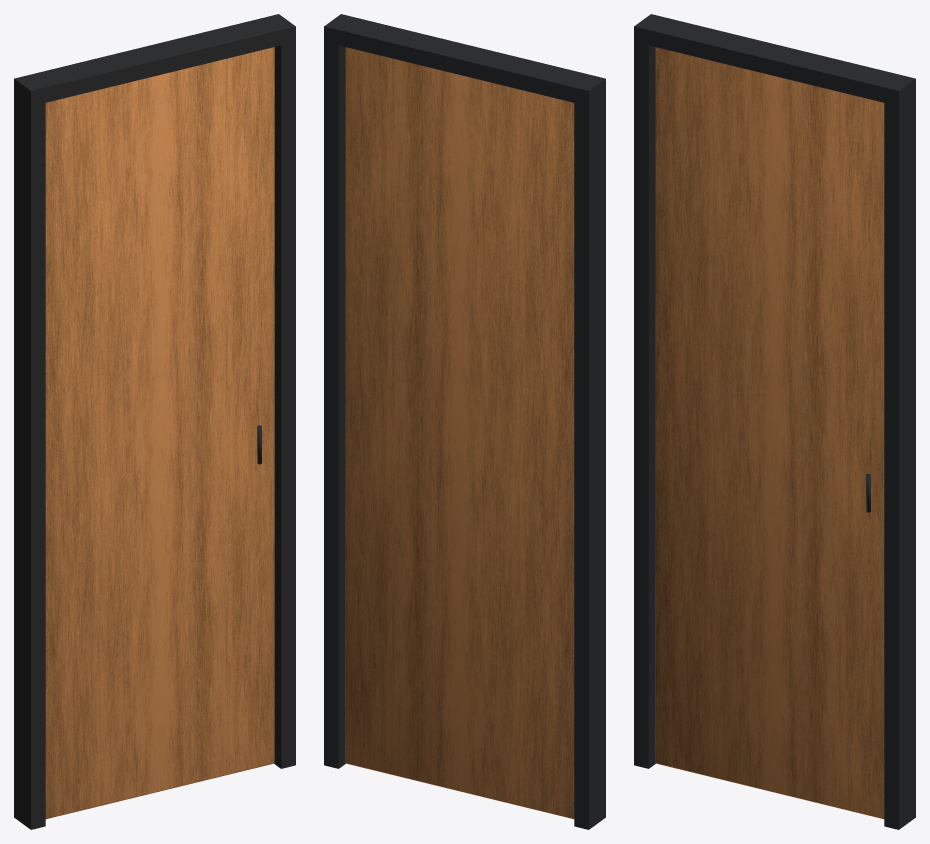
Rendered from architecture.swing-door-solid.glb.
The picture shows the model from 3 angles, left to right: view 1: azimuth 30°, elevation 25°; view 2: azimuth 150°, elevation 25°; view 3: azimuth 330°, elevation 25°; orthographic projection.
Visible parts, largest first — view 1: architecture.swing-door-solid.001; view 2: architecture.swing-door-solid.001; view 3: architecture.swing-door-solid.001.
Part boxes in pixels (x1,y1,x2,y2): architecture.swing-door-solid.001: (14, 14, 295, 829); architecture.swing-door-solid.001: (324, 14, 605, 829); architecture.swing-door-solid.001: (634, 14, 915, 829).
Bounding box in the file's own units: 0.9 × 2.4 × 0.1.
2 materials, 1 textured.
